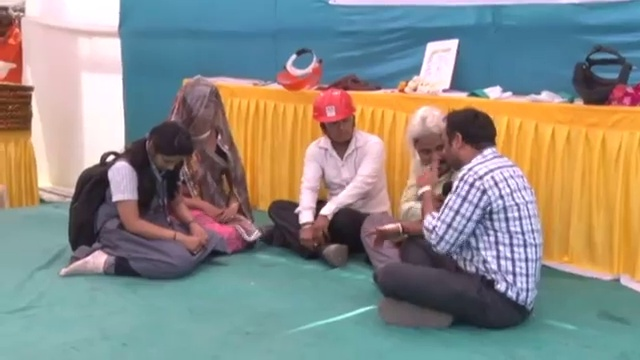helmet: (311, 93, 358, 130), (0, 58, 18, 85)
helmet_off: (443, 108, 499, 174), (173, 79, 224, 145), (142, 121, 193, 180), (407, 107, 446, 179), (0, 2, 20, 38)
helmet_on: (311, 91, 357, 151)
person: (374, 111, 542, 330), (62, 119, 216, 282), (263, 95, 396, 269), (163, 77, 261, 256), (361, 102, 457, 265), (0, 4, 23, 82)
